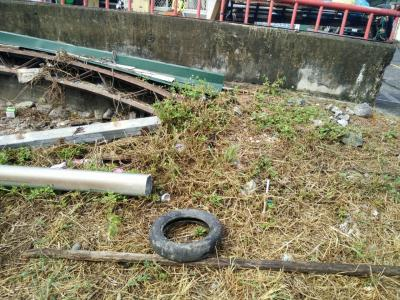tire: (146, 206, 225, 264)
